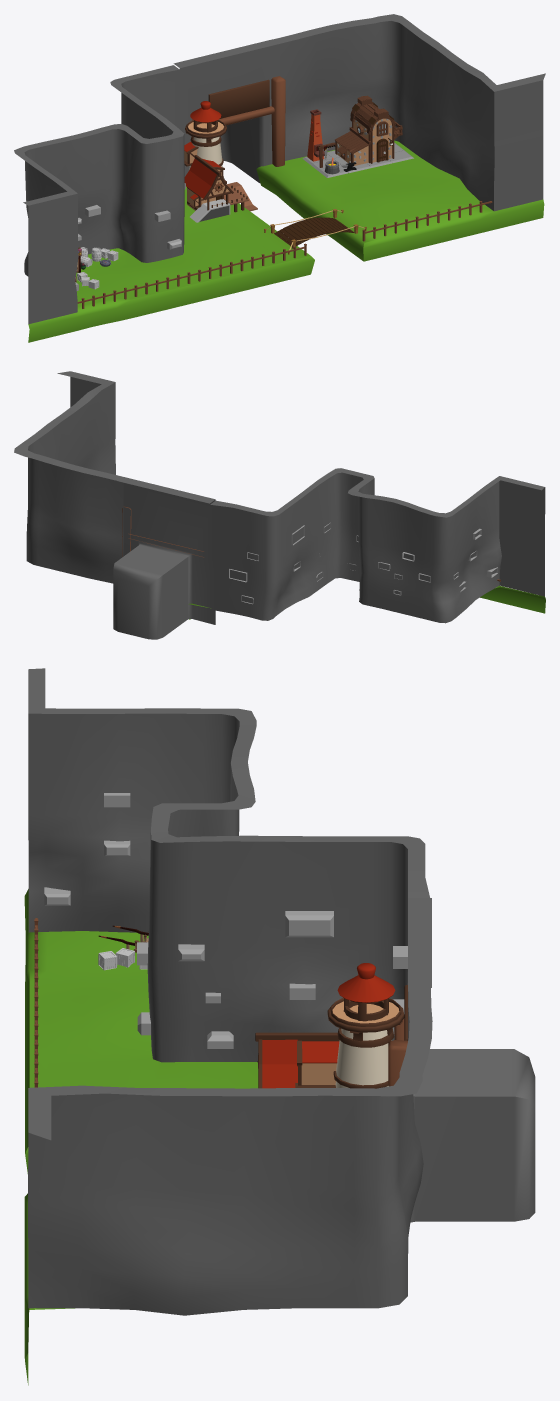
The model's file is HubInteiro.fbx.
3 renders of one model, top to bottom at view 1: azimuth 30°, elevation 25°; view 2: azimuth 150°, elevation 25°; view 3: azimuth 270°, elevation 25°, orthographic. The views are drawn at different scales.
Parts seen in each view (by area): view 1: Cenario.002, Cenario, Cenario.003, EntradaCaverna, Torre, Ferraria, Ponte, Cerca.E, Cerca.D, Forno, Cenario.001; view 2: Cenario.003, Cenario.002, EntradaCaverna, Cenario, Cenario.001; view 3: Cenario.002, Cenario.003, EntradaCaverna, Cenario, Torre, Cenario.001.
Part boxes in pixels (x1,y1,x2,y2): Cenario.002: [274, 14, 545, 211]; Cenario: [28, 140, 544, 342]; Cenario.003: [14, 65, 184, 324]; EntradaCaverna: [173, 39, 285, 182]; Torre: [184, 101, 257, 222]; Ferraria: [302, 95, 413, 177]; Ponte: [264, 209, 366, 254]; Cerca.E: [77, 243, 306, 308]; Cerca.D: [362, 201, 492, 241]; Forno: [307, 109, 324, 161]; Cenario.001: [75, 183, 185, 290]; Cenario.003: [210, 468, 545, 623]; Cenario.002: [14, 371, 123, 583]; EntradaCaverna: [113, 477, 215, 639]; Cenario: [188, 585, 545, 619]; Cenario.001: [229, 522, 498, 604]; Cenario.002: [28, 988, 432, 1315]; Cenario.003: [28, 668, 429, 1062]; EntradaCaverna: [388, 898, 535, 1222]; Cenario: [24, 889, 258, 1385]; Torre: [255, 963, 404, 1088]; Cenario.001: [44, 793, 407, 1048].
Size of the model in its own units: 8506 by 2163 by 3889.
